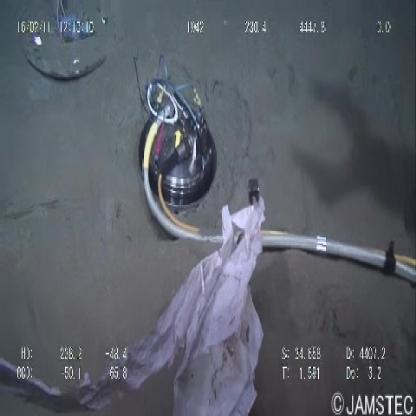Rov: (134, 62, 217, 248)
Rác: (111, 192, 266, 416)
